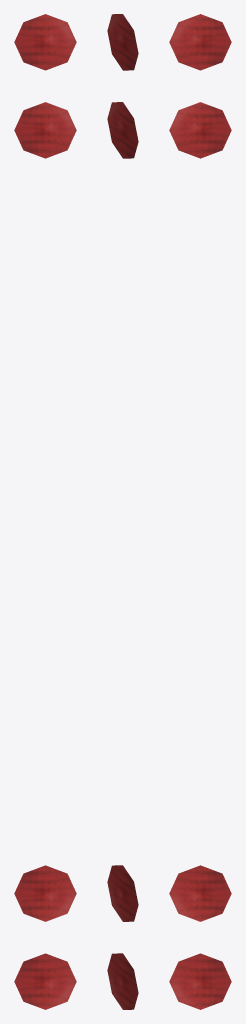
The model's file is brakes_on.obj.
3 renders of one model, left to right at view 1: azimuth 90°, elevation 25°; view 2: azimuth 210°, elevation 25°; view 3: azimuth 270°, elevation 25°, orthographic.
Parts seen in each view (by area): view 1: brake_lights_on; view 2: brake_lights_on; view 3: brake_lights_on.
Part boxes in pixels (bbox=[...]): brake_lights_on: bbox=[14, 14, 76, 1009]; brake_lights_on: bbox=[107, 14, 138, 1009]; brake_lights_on: bbox=[169, 14, 231, 1009].
Size of the model in its own units: 0 by 1.95 by 0.111.
1 material, 1 textured.
